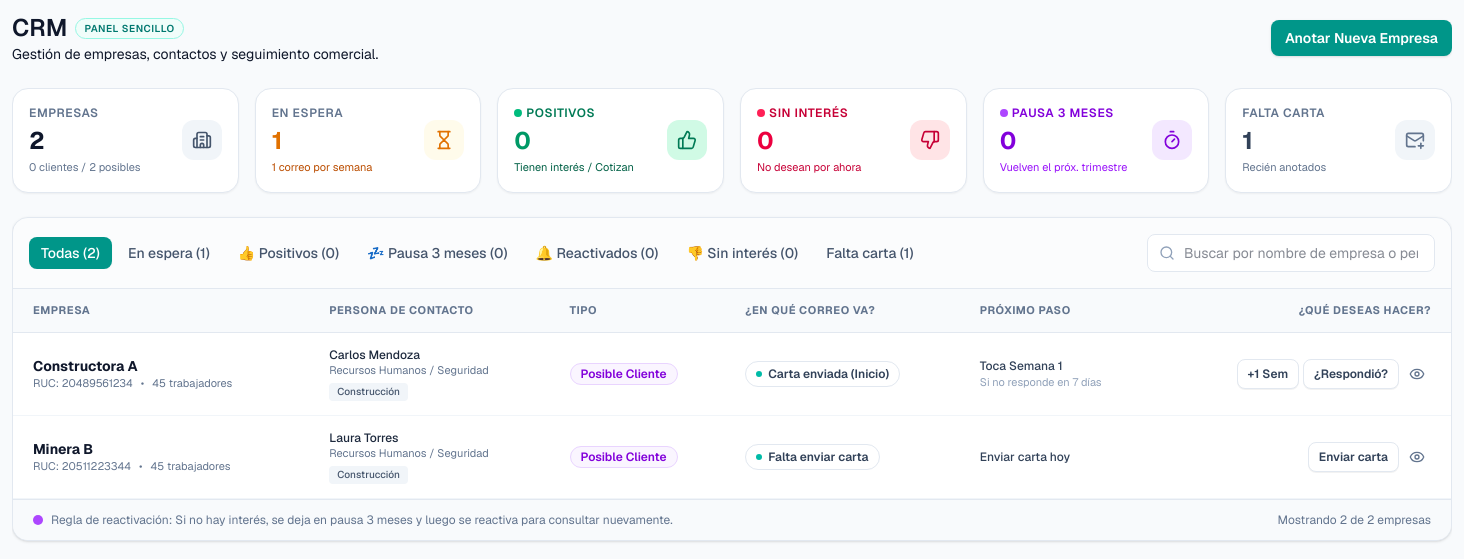
Test: PanelCrm — panel montado › filters the rows by the search term (contacto name)
Expected: the table is shown, [13,288,1451,499]
In the field labelled "Buscar": (1291, 252) [1147,234,1435,272], type "Mendoza"
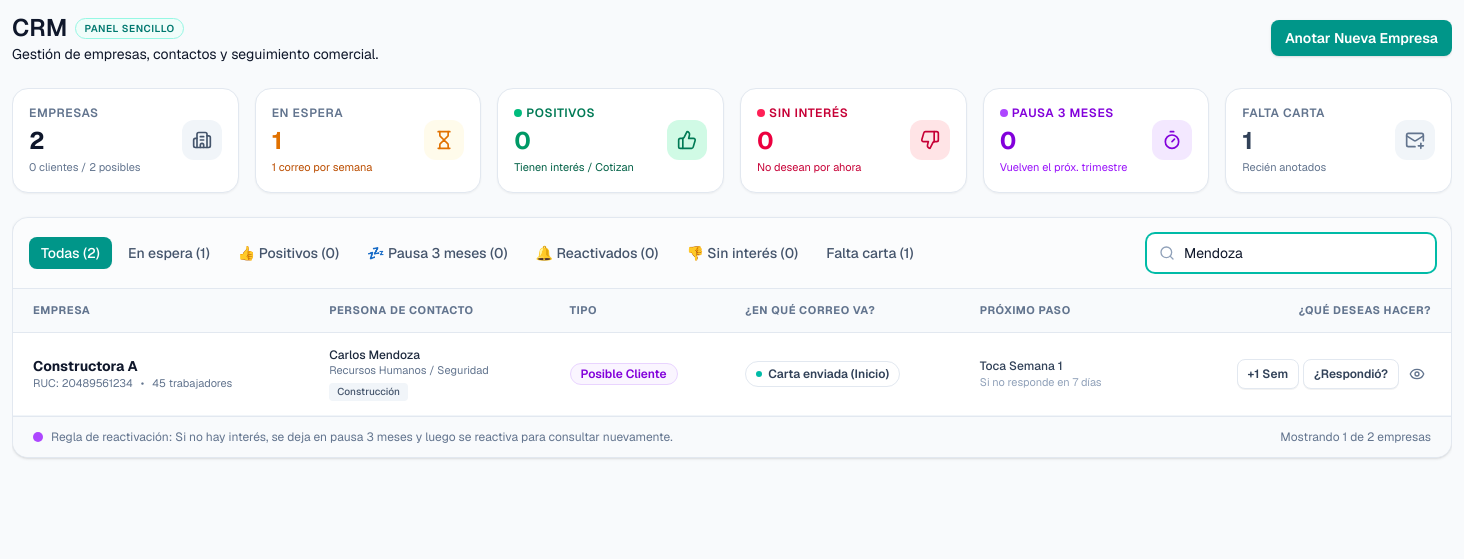
Expected: the text "Constructora A" is shown, [33,356,138,376]
Expected: the button "Minera B" is gone
